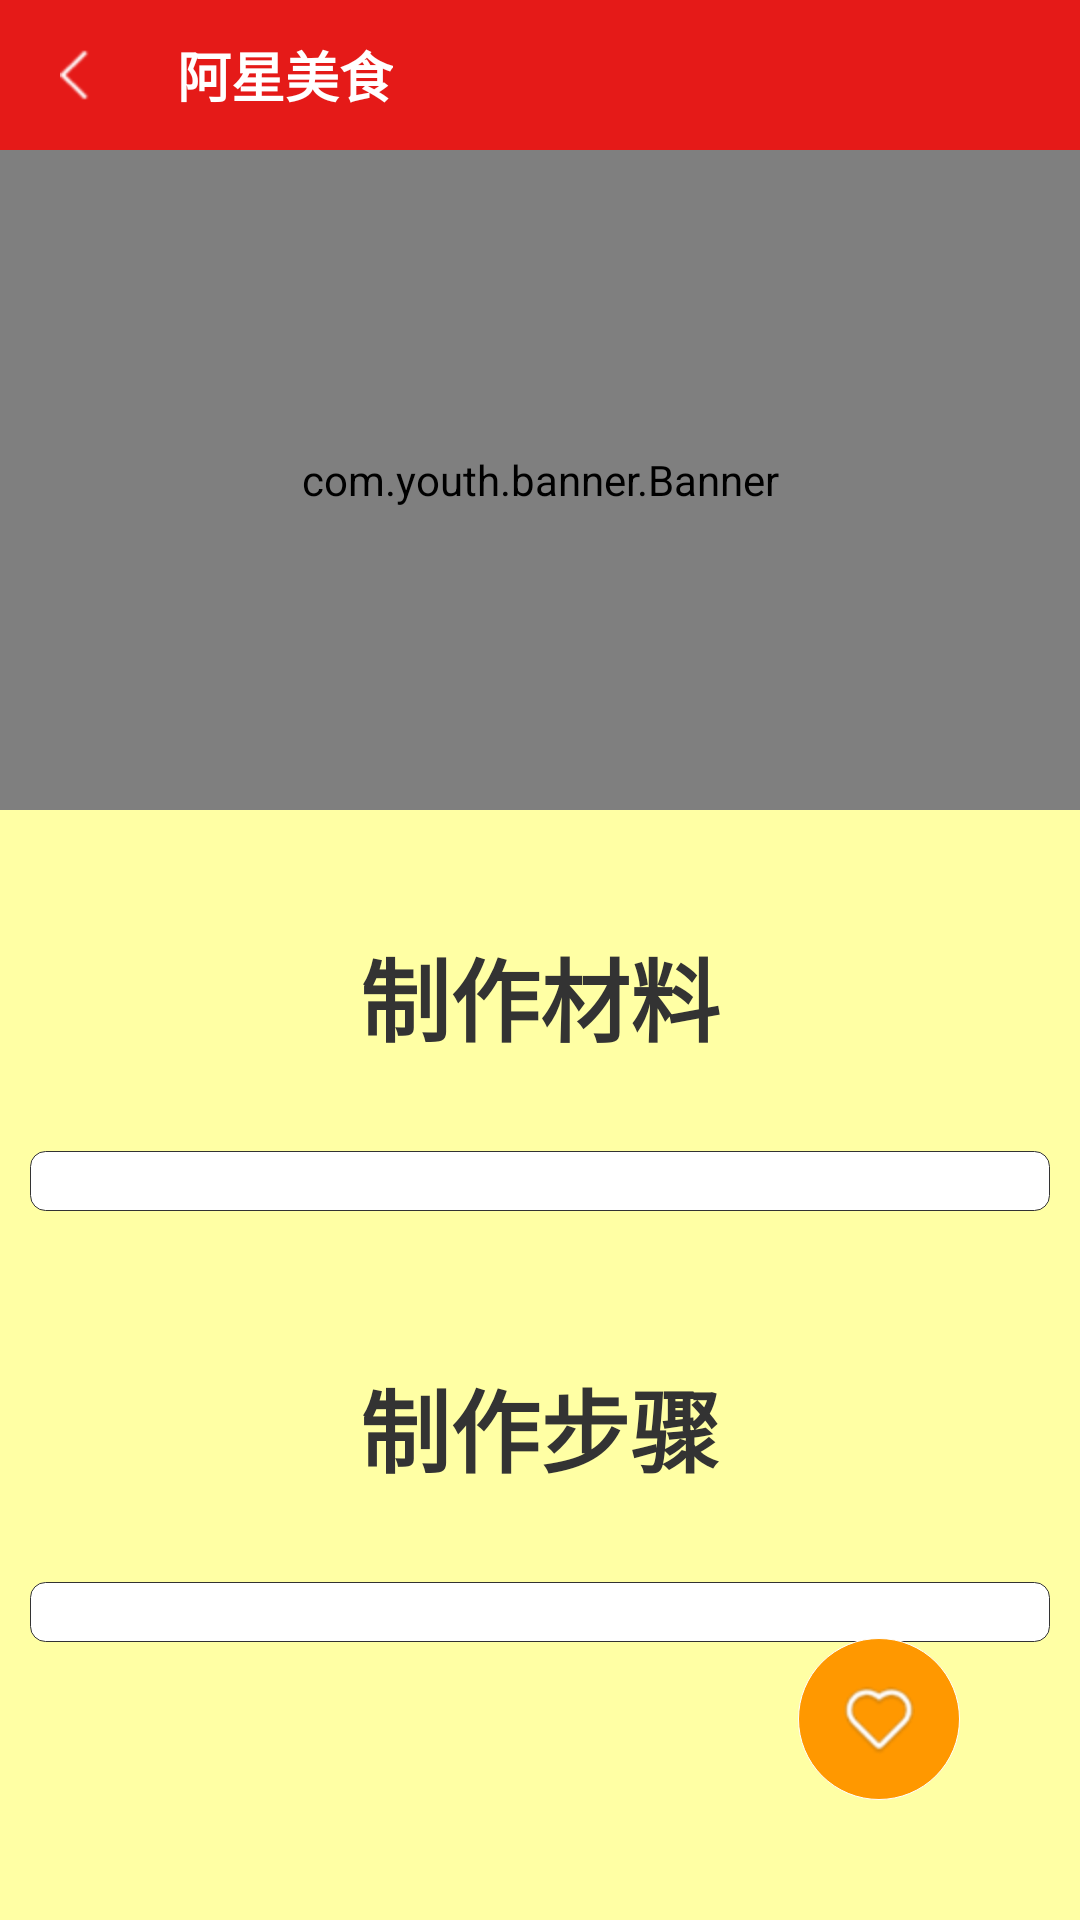

Icons on this 1080px×1920px Android screen, each with the point to tap as [x,y]:
collect nomal: [879,1719]
